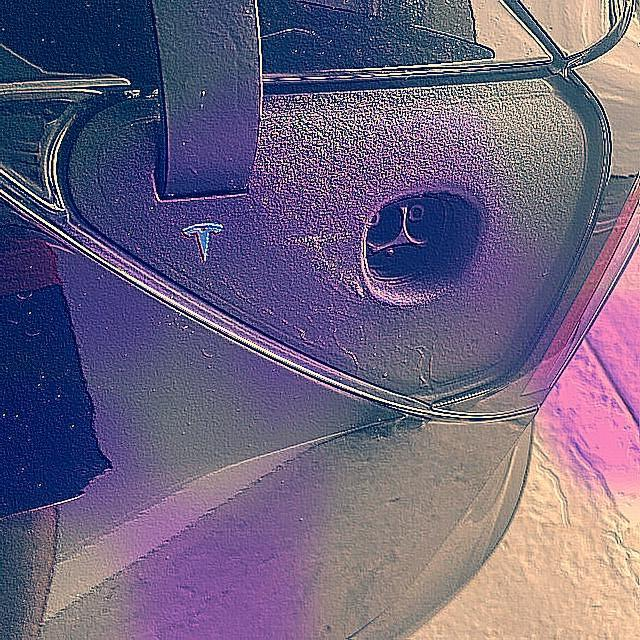Tesla Model-S-: (334, 172, 506, 346)
